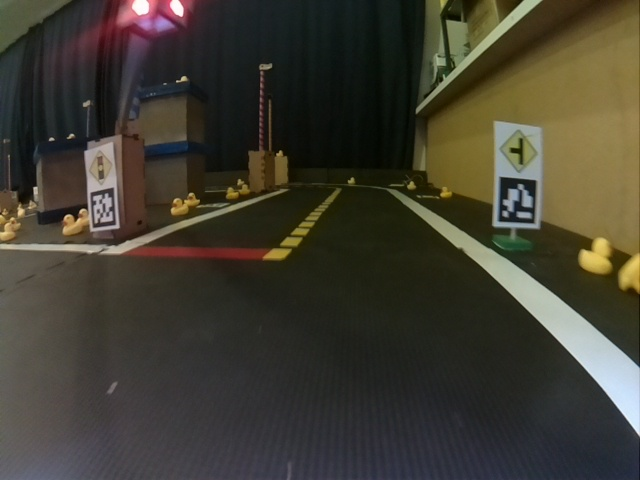Duckie: (579, 238, 610, 274), (618, 252, 640, 292), (62, 215, 82, 235), (171, 198, 188, 215), (1, 223, 15, 240), (187, 193, 200, 206), (226, 187, 239, 199), (440, 187, 451, 198), (9, 219, 20, 230), (239, 184, 250, 194), (406, 181, 417, 190), (347, 176, 356, 185)
Intersection sign: (498, 127, 539, 172)
QR code: (496, 175, 538, 225), (89, 188, 115, 228)
Signal sign: (87, 150, 114, 185)
Traffic light: (117, 0, 188, 37)
